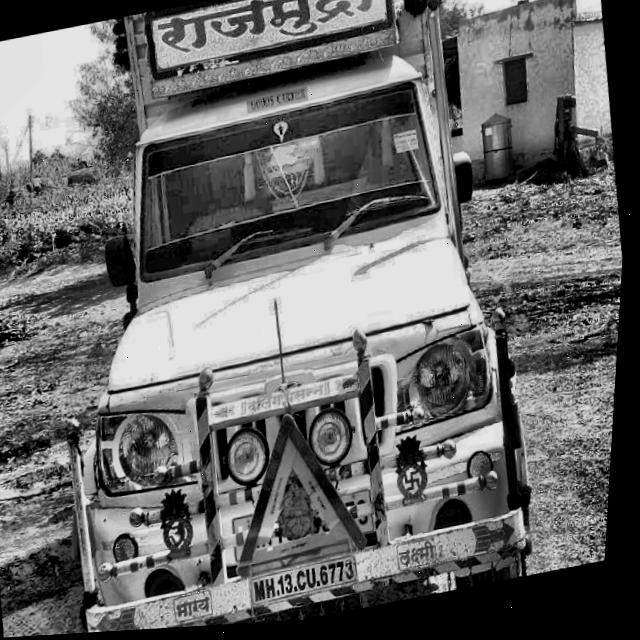light_vehicle: (13, 0, 569, 638)
